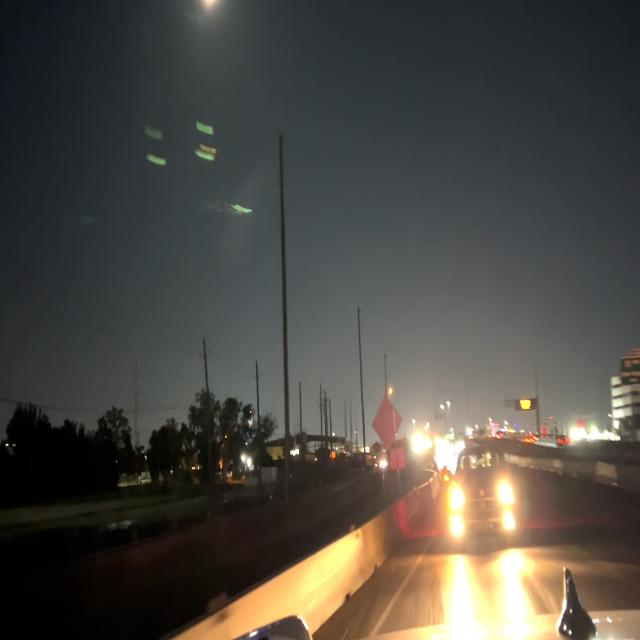back-of-sign: (374, 400, 402, 448), (390, 449, 406, 469)
